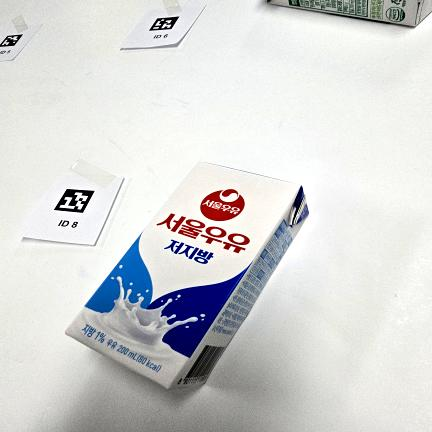milk_blue: (63, 161, 310, 388)
